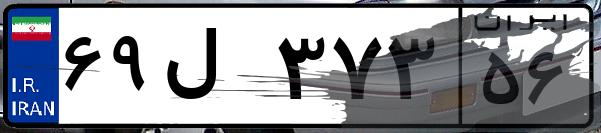3: (270, 28, 330, 110), (385, 28, 445, 110)
5: (475, 38, 525, 113)
6: (57, 26, 110, 100), (525, 38, 570, 115)
7: (330, 28, 385, 110)
9: (110, 28, 158, 98)
ل: (158, 20, 270, 120)
